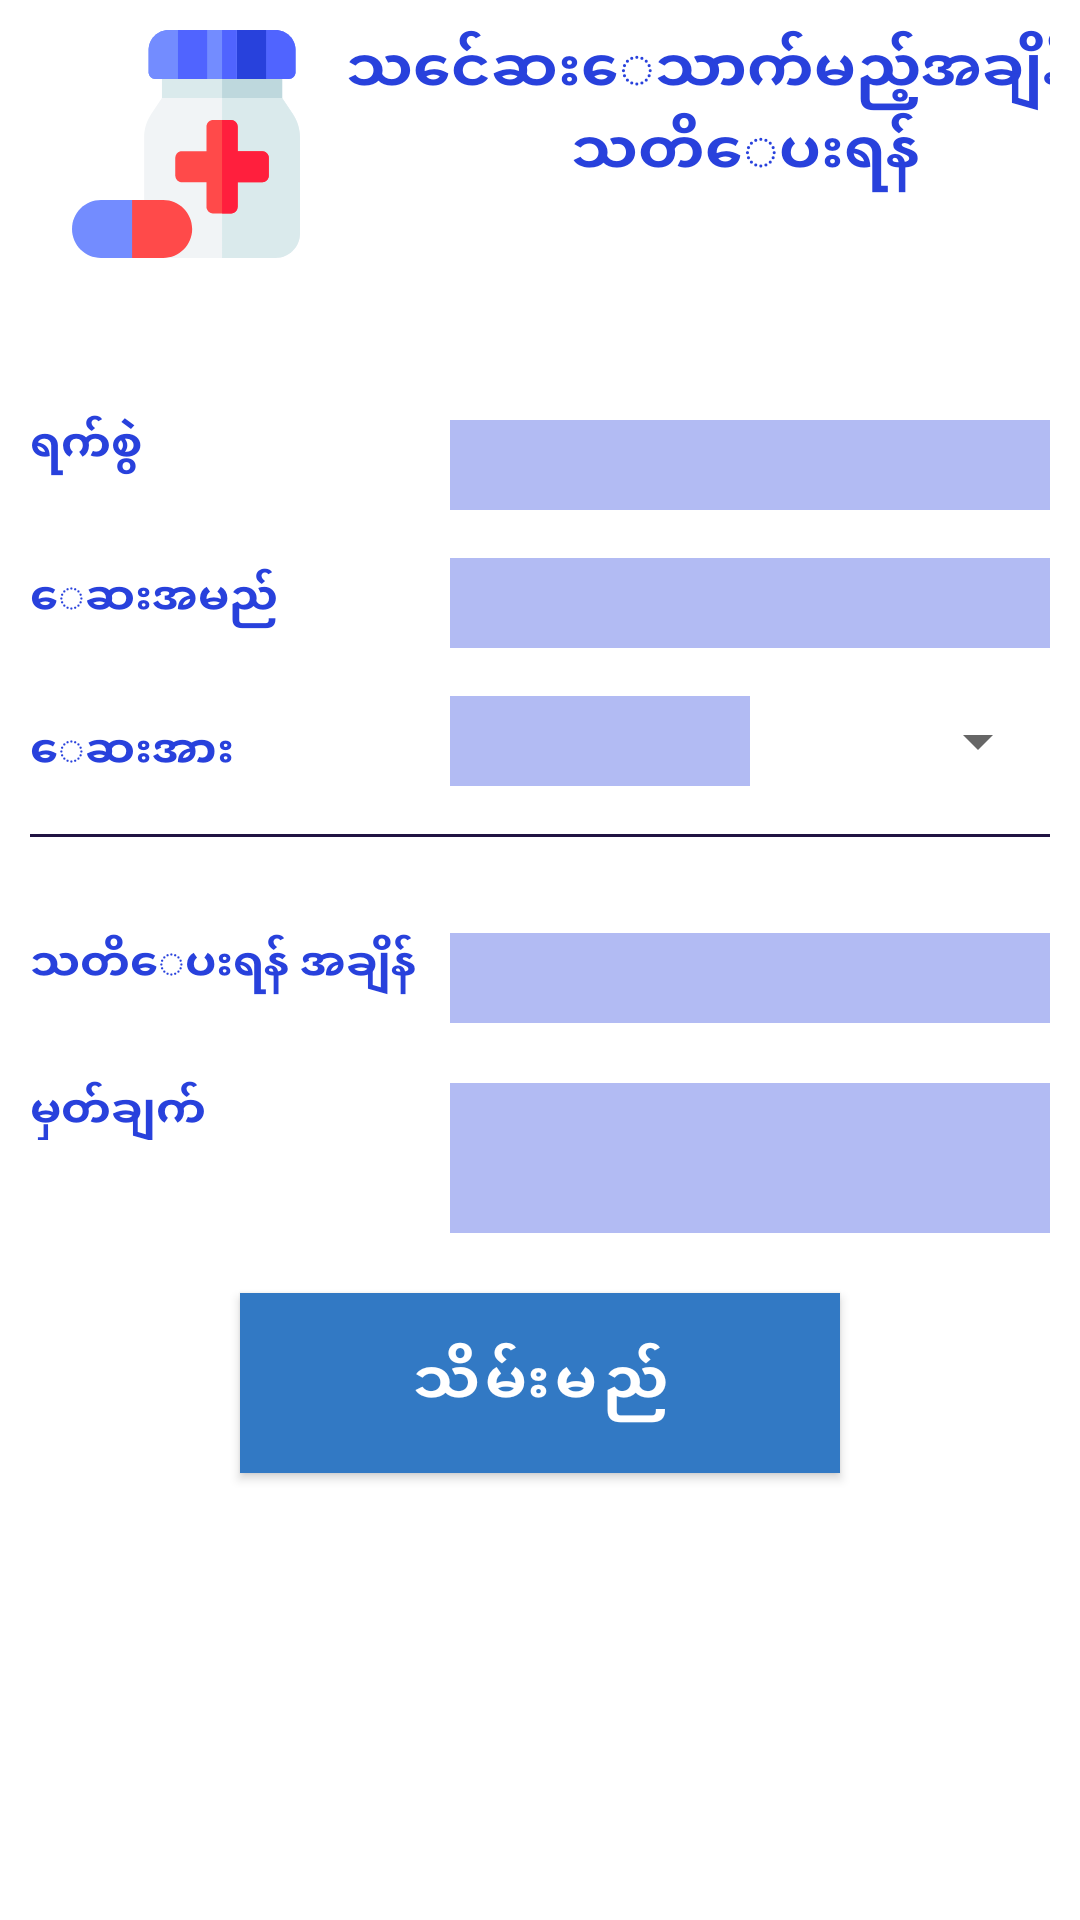

Where to tap for icons on this 1080 × 1920 app screen, as (x,y):
medicines: (186,144)
